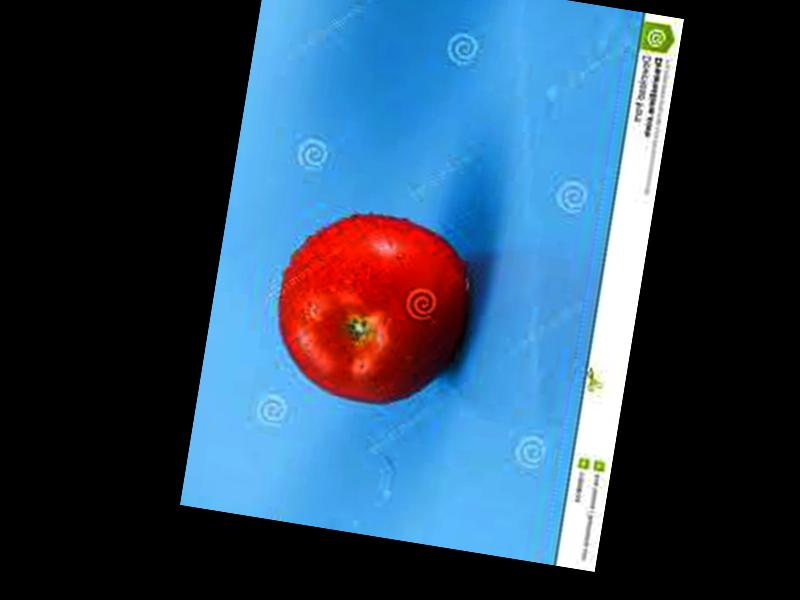Tomato: (265, 201, 478, 418)
